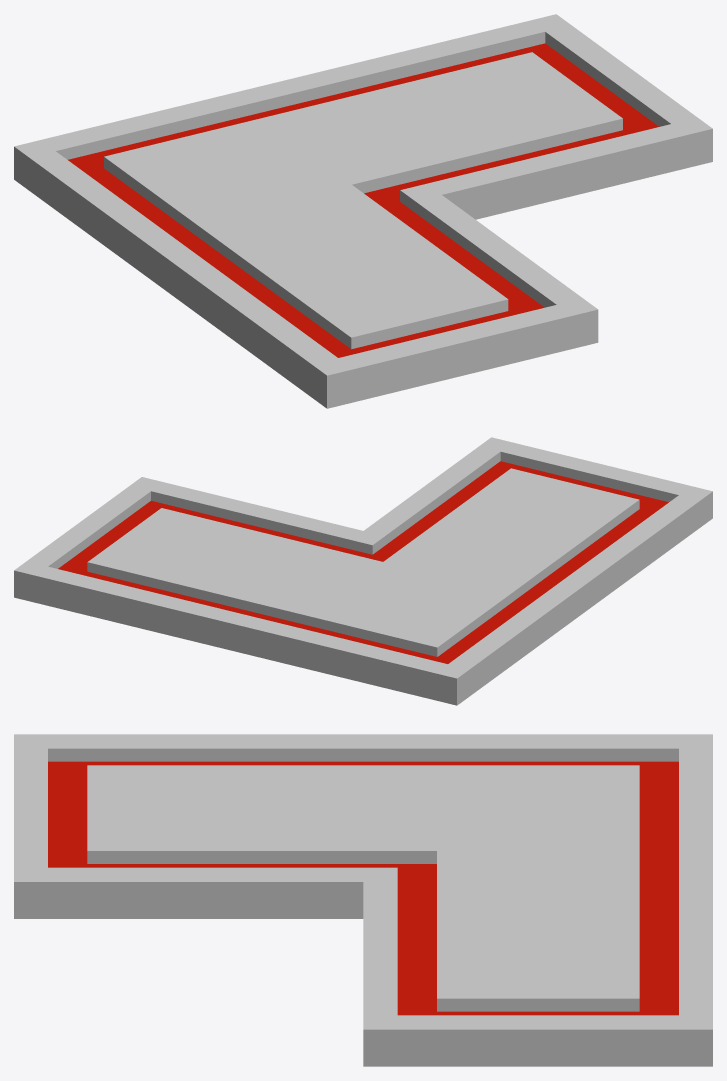
File: Platform.fbx
3 renders of one model, top to bottom at view 1: azimuth 30°, elevation 25°; view 2: azimuth 150°, elevation 25°; view 3: azimuth 270°, elevation 25°, orthographic. The views are drawn at different scales.
Visible parts, largest first — view 1: Cube; view 2: Cube; view 3: Cube.
Boxes of the visible parts, x1,y1,x2,y2 form: Cube: (14,14,712,408); Cube: (14,437,712,705); Cube: (14,734,712,1066).
Bounding box in the file's own units: 200 × 11.69 × 200.
